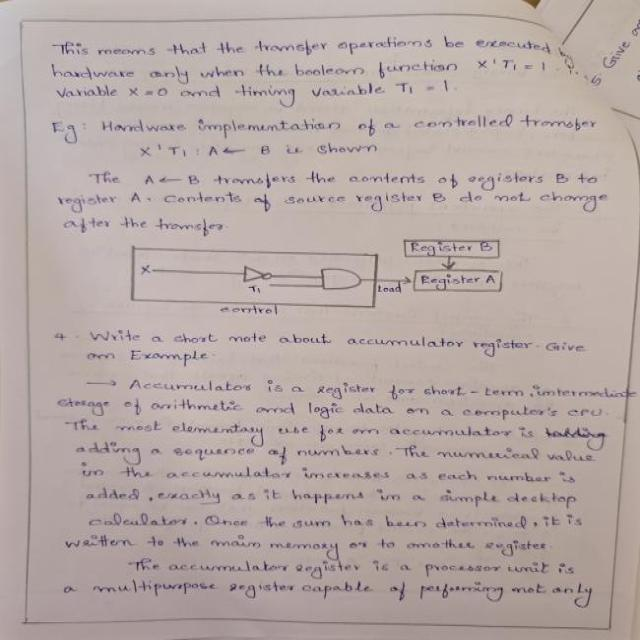Figure Detection - v3 Dataset Version2: (119, 230, 521, 324)
